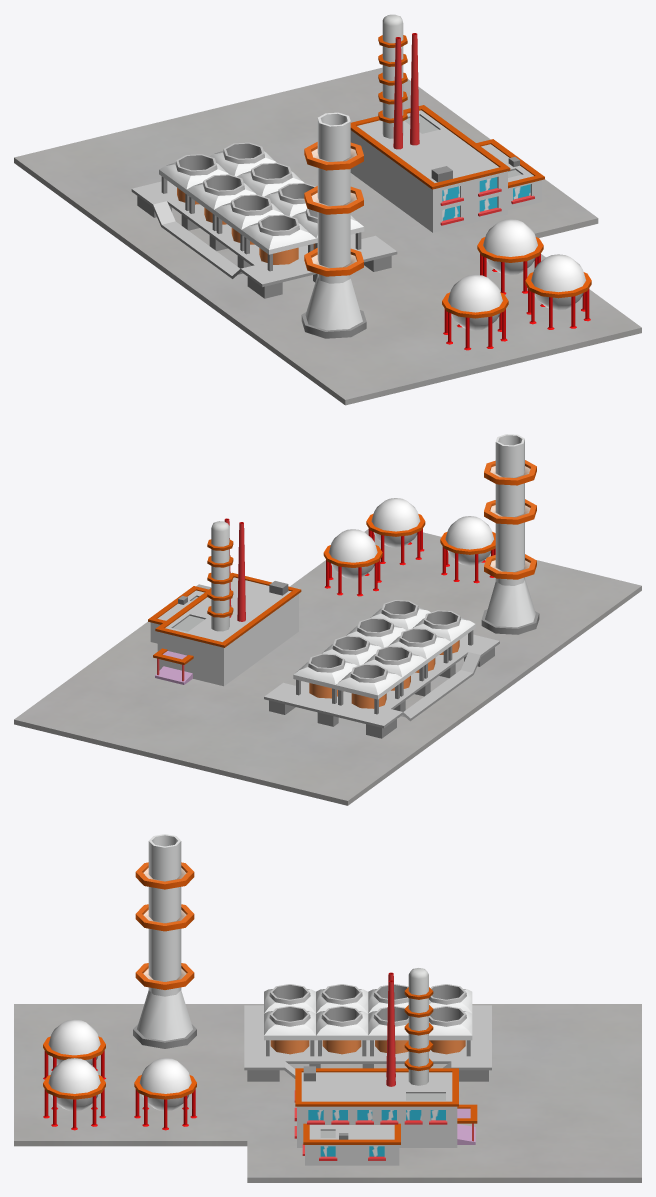
The model's file is build3.fbx.
3 views of the same model, one above another, from view 1: azimuth 30°, elevation 25°; view 2: azimuth 150°, elevation 25°; view 3: azimuth 270°, elevation 25° (orthographic). The views are drawn at different scales.
Visible parts, largest first — view 1: petrol_ground, petrol_refining_02.001, petrol_refining_01, petrol_refining_12.001, petrol_refining_09.001, petrol_refining_10.001, petrol_refining_08.001, petrol_refining_03.001, petrol_refining_06.001, petrol_refining_05.001; view 2: petrol_ground, petrol_refining_02.001, petrol_refining_01, petrol_refining_12.001, petrol_refining_08.001, petrol_refining_10.001, petrol_refining_09.001, petrol_refining_03.001, petrol_refining_05.001; view 3: petrol_ground, petrol_refining_02.001, petrol_refining_01, petrol_refining_12.001, petrol_refining_10.001, petrol_refining_08.001, petrol_refining_03.001, petrol_refining_09.001, petrol_refining_06.001.
Boxes of the visible parts, x1,y1,x2,y2 form: petrol_ground: (14, 67, 641, 405); petrol_refining_02.001: (131, 142, 397, 298); petrol_refining_01: (350, 105, 544, 232); petrol_refining_12.001: (301, 112, 366, 338); petrol_refining_09.001: (442, 274, 508, 350); petrol_refining_10.001: (525, 254, 591, 329); petrol_refining_08.001: (477, 219, 543, 294); petrol_refining_03.001: (378, 14, 407, 138); petrol_refining_06.001: (410, 33, 419, 145); petrol_refining_05.001: (393, 37, 402, 149); petrol_ground: (14, 529, 641, 805); petrol_refining_02.001: (264, 600, 499, 738); petrol_refining_01: (148, 572, 301, 686); petrol_refining_12.001: (481, 434, 539, 634); petrol_refining_08.001: (323, 529, 382, 596); petrol_refining_10.001: (366, 498, 425, 565); petrol_refining_09.001: (440, 516, 495, 583); petrol_refining_03.001: (207, 521, 233, 631); petrol_refining_05.001: (237, 522, 245, 621); petrol_ground: (14, 1004, 641, 1182); petrol_refining_02.001: (244, 984, 491, 1081); petrol_refining_01: (294, 1066, 477, 1165); petrol_refining_12.001: (133, 834, 196, 1048); petrol_refining_10.001: (43, 1058, 105, 1130); petrol_refining_08.001: (134, 1058, 196, 1130); petrol_refining_03.001: (404, 968, 433, 1085); petrol_refining_09.001: (43, 1019, 105, 1079); petrol_refining_06.001: (386, 980, 395, 1086).
Bounding box in the file's own units: 228 × 80.12 × 150.
